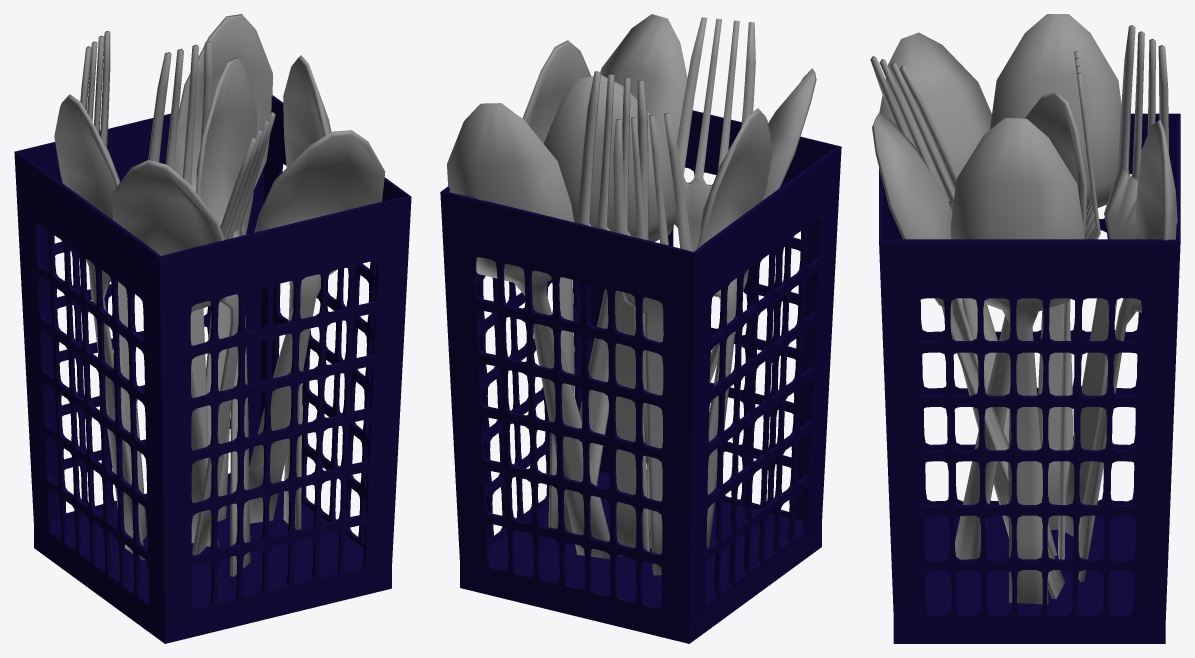
The model's file is rak organizer.glb.
The picture shows the model from 3 angles, left to right: view 1: azimuth 30°, elevation 25°; view 2: azimuth 150°, elevation 25°; view 3: azimuth 270°, elevation 25°; orthographic projection. The views are drawn at different scales.
Visible parts, largest first — view 1: Rak Organizer; view 2: Rak Organizer; view 3: Rak Organizer.
Part boxes in pixels (x1,y1,x2,y2): Rak Organizer: [14, 14, 411, 643]; Rak Organizer: [440, 14, 841, 643]; Rak Organizer: [870, 14, 1180, 643].
Size of the model in its own units: 2.23 by 4.24 by 2.28.
